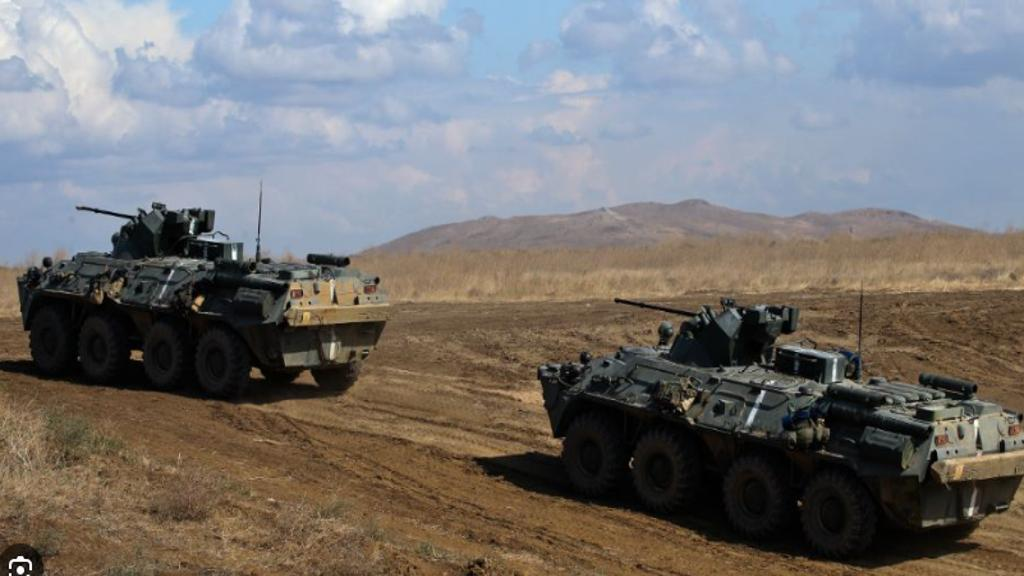APC-IFV: (532, 279, 1020, 559), (17, 196, 388, 404)
